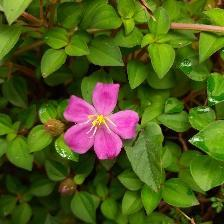malabar melastome: (62, 82, 142, 163)
